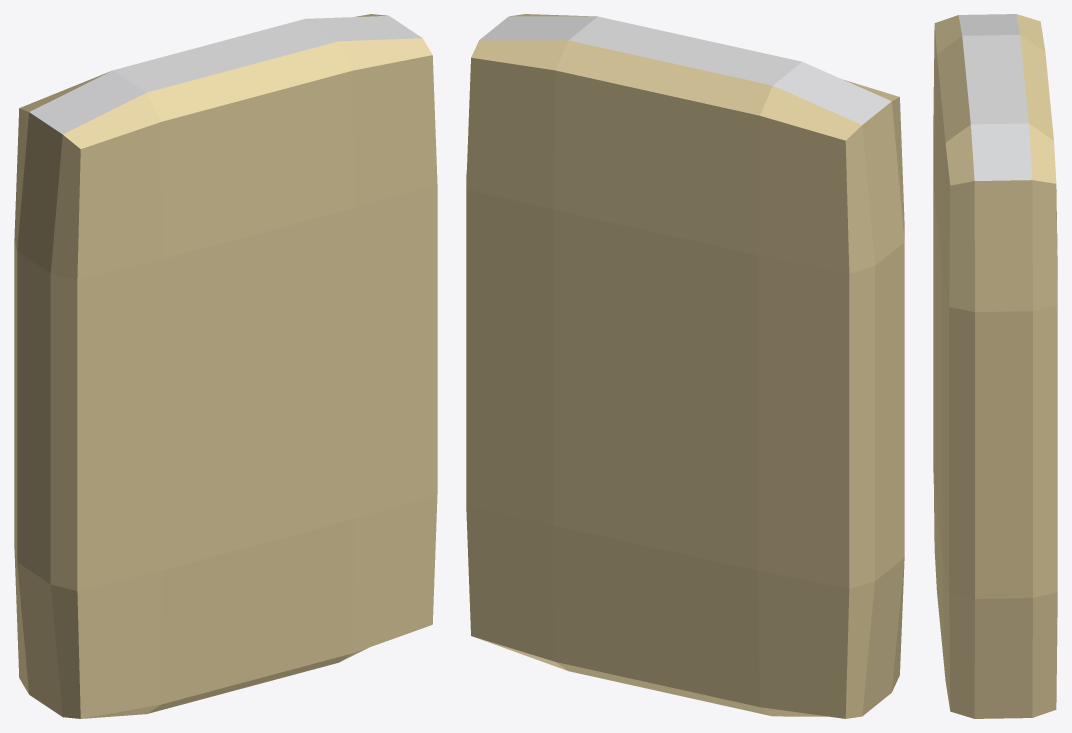
The model's file is f-book3.fbx.
3 renders of one model, left to right at view 1: azimuth 30°, elevation 25°; view 2: azimuth 150°, elevation 25°; view 3: azimuth 270°, elevation 25°, orthographic. The views are drawn at different scales.
Visible parts, largest first — view 1: Chushion.220; view 2: Chushion.220; view 3: Chushion.220.
Part boxes in pixels (x1,y1,x2,y2): Chushion.220: [14, 14, 437, 718]; Chushion.220: [466, 14, 904, 718]; Chushion.220: [933, 14, 1057, 718].
Size of the model in its own units: 37.09 by 55.68 by 10.96.
